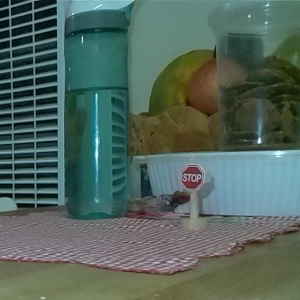stop sign: (177, 161, 211, 234)
